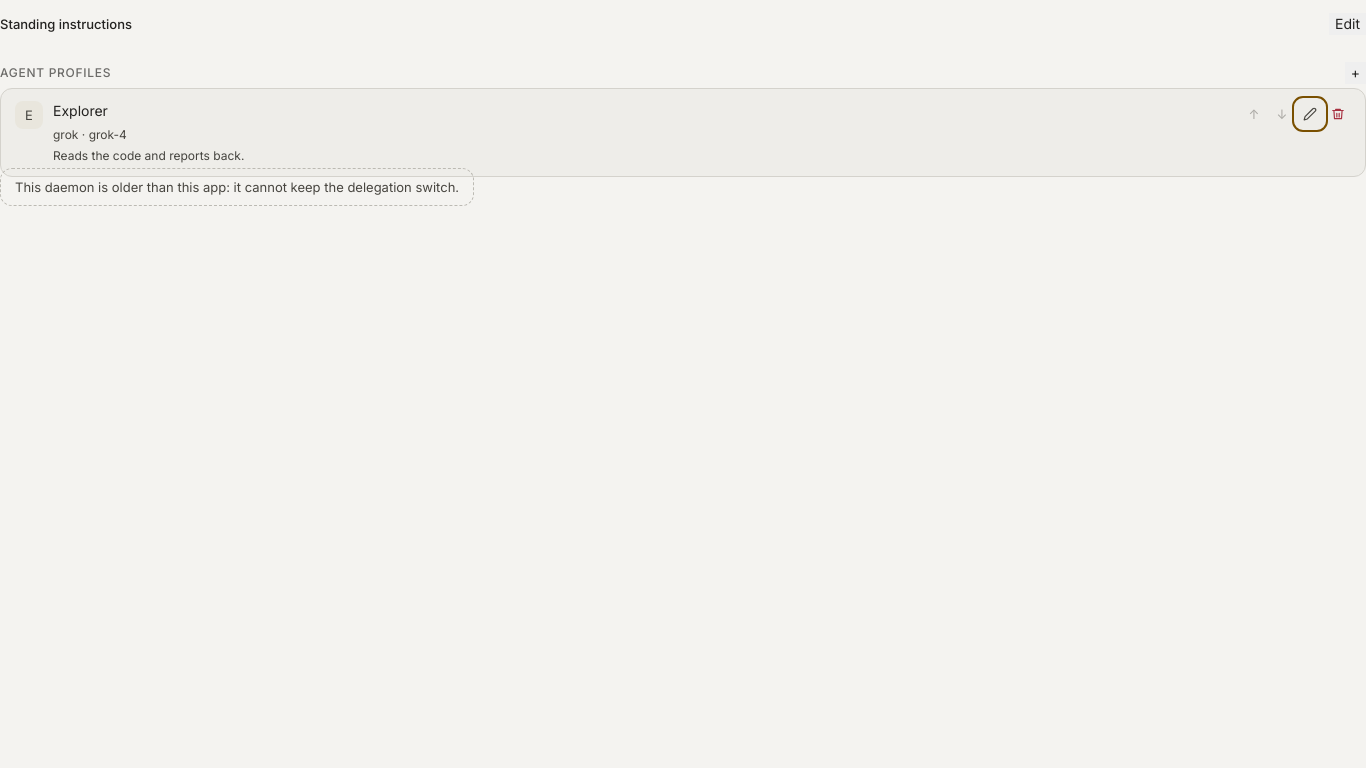
it: Settings agents panel — the profile dialog › returns focus to the row's pencil when the dialog closes
Click the button named "Edit Explorer" at (1310, 114), box top-left (1297, 101), bottom-right (1323, 127)
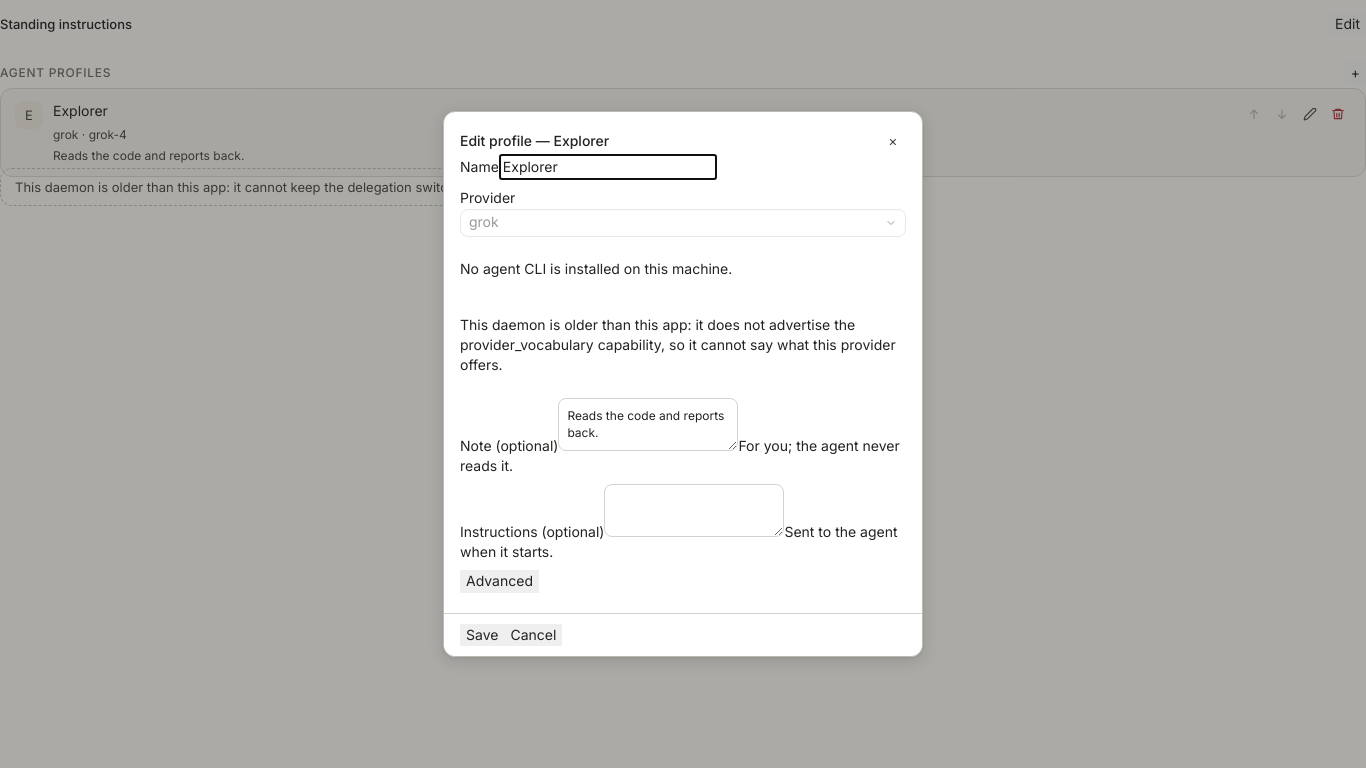
Expected: the element with class "edit-scrim" is shown
Click the button "Cancel" at (533, 635), box top-left (504, 624), bottom-right (562, 646)
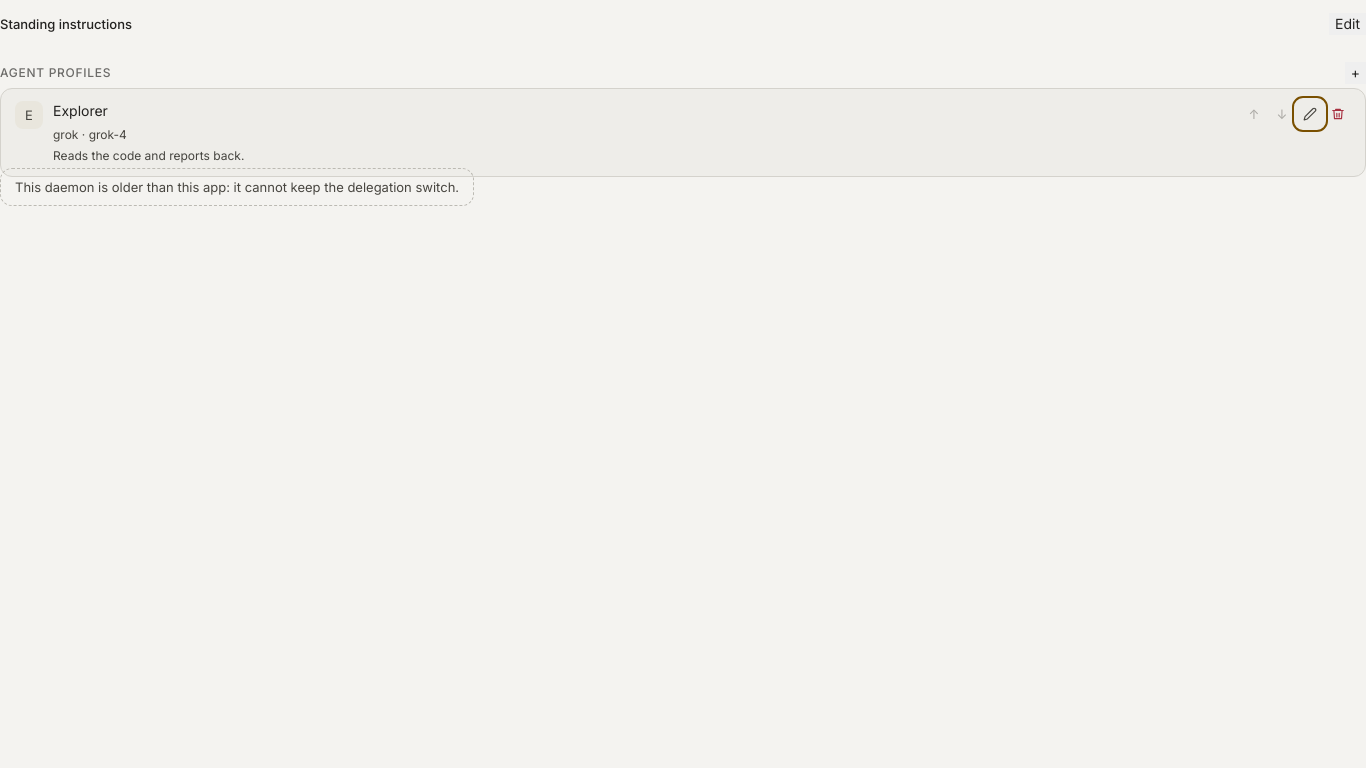
Expected: the element with class "edit-scrim" is gone
